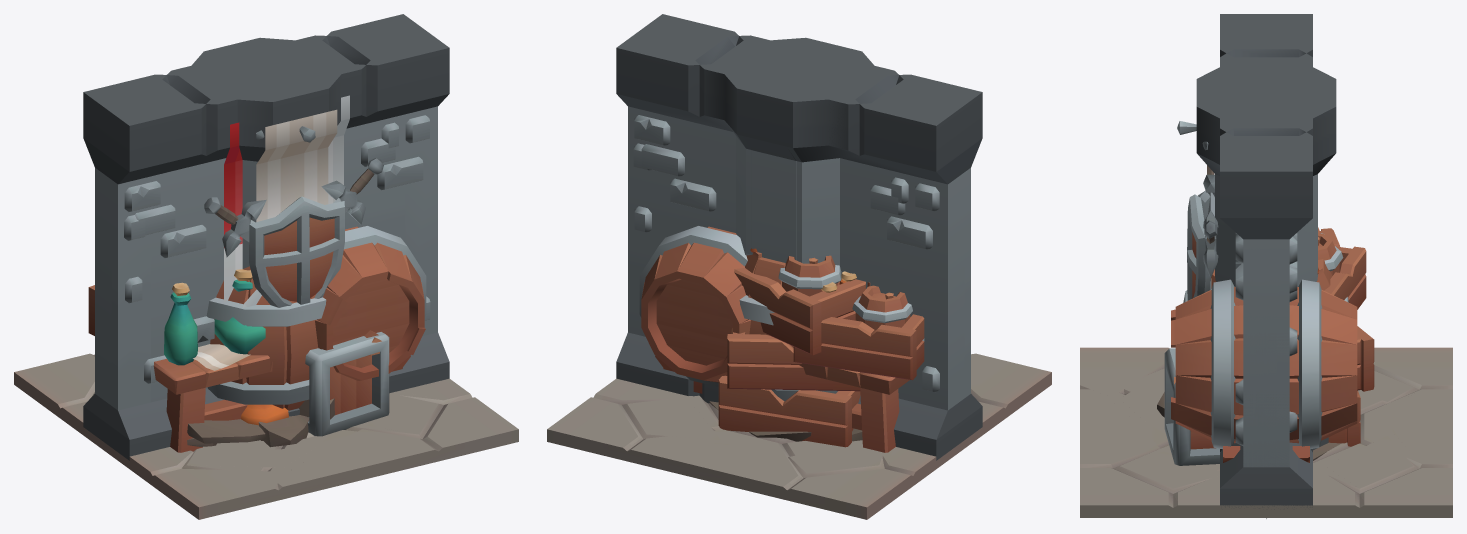
Rendered from dungeon.glb.
The picture shows the model from 3 angles, left to right: view 1: azimuth 30°, elevation 25°; view 2: azimuth 150°, elevation 25°; view 3: azimuth 270°, elevation 25°; orthographic projection.
Visible parts, largest first — view 1: wall_arched, floor_tile_large_rocks, wall_pillar, keg_decorated, pillar_decorated, floor_tile_large, barrel_large, crates_stacked, banner_patternA_red, pillar; view 2: wall_pillar, wall_arched, keg_decorated, floor_tile_large_rocks, crates_stacked, floor_tile_large, pillar_decorated, barrel_large, pillar; view 3: wall_arched, floor_tile_large_rocks, wall_pillar, keg_decorated, floor_tile_large, crates_stacked, pillar_decorated, pillar, barrel_large.
Boxes of the visible parts, x1=… form: wall_arched: x1=83, y1=14, x2=449, y2=460; floor_tile_large_rocks: x1=14, y1=353, x2=518, y2=519; wall_pillar: x1=118, y1=37, x2=449, y2=439; keg_decorated: x1=88, y1=226, x2=426, y2=452; pillar_decorated: x1=204, y1=39, x2=383, y2=307; floor_tile_large: x1=14, y1=372, x2=518, y2=519; barrel_large: x1=206, y1=266, x2=326, y2=410; crates_stacked: x1=241, y1=332, x2=389, y2=436; banner_patternA_red: x1=224, y1=95, x2=349, y2=302; pillar: x1=202, y1=42, x2=330, y2=415; wall_pillar: x1=616, y1=36, x2=947, y2=456; wall_arched: x1=616, y1=14, x2=982, y2=460; keg_decorated: x1=639, y1=226, x2=924, y2=452; floor_tile_large_rocks: x1=547, y1=353, x2=1051, y2=519; crates_stacked: x1=718, y1=248, x2=870, y2=447; floor_tile_large: x1=547, y1=372, x2=1051, y2=519; pillar_decorated: x1=735, y1=77, x2=814, y2=262; barrel_large: x1=739, y1=252, x2=841, y2=401; pillar: x1=734, y1=39, x2=863, y2=152; wall_arched: x1=1220, y1=14, x2=1312, y2=508; floor_tile_large_rocks: x1=1080, y1=347, x2=1452, y2=517; wall_pillar: x1=1196, y1=67, x2=1336, y2=507; keg_decorated: x1=1171, y1=227, x2=1357, y2=462; floor_tile_large: x1=1080, y1=368, x2=1452, y2=517; crates_stacked: x1=1164, y1=233, x2=1374, y2=465; pillar_decorated: x1=1177, y1=75, x2=1336, y2=300; pillar: x1=1197, y1=82, x2=1335, y2=121; barrel_large: x1=1183, y1=259, x2=1348, y2=302.
Bounding box in the file's own units: 4 × 4.81 × 4.
1 material, 1 textured.
